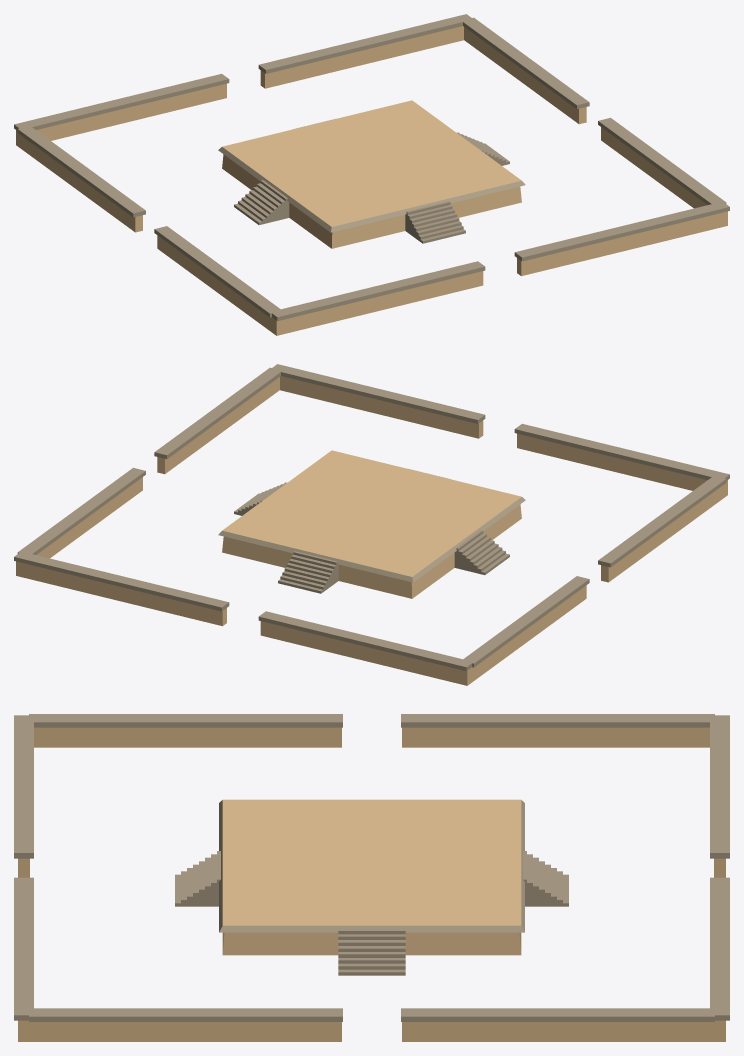
The model's file is K09_far.glb.
3 renders of one model, top to bottom at view 1: azimuth 30°, elevation 25°; view 2: azimuth 150°, elevation 25°; view 3: azimuth 270°, elevation 25°, orthographic. The views are drawn at different scales.
Visible parts, largest first — view 1: K09_far; view 2: K09_far; view 3: K09_far.
Boxes of the visible parts, bbox=[...] form: K09_far: bbox=[14, 14, 729, 335]; K09_far: bbox=[14, 364, 729, 685]; K09_far: bbox=[14, 714, 729, 1041].
Bounding box in the file's own units: 36 × 1.65 × 36.
